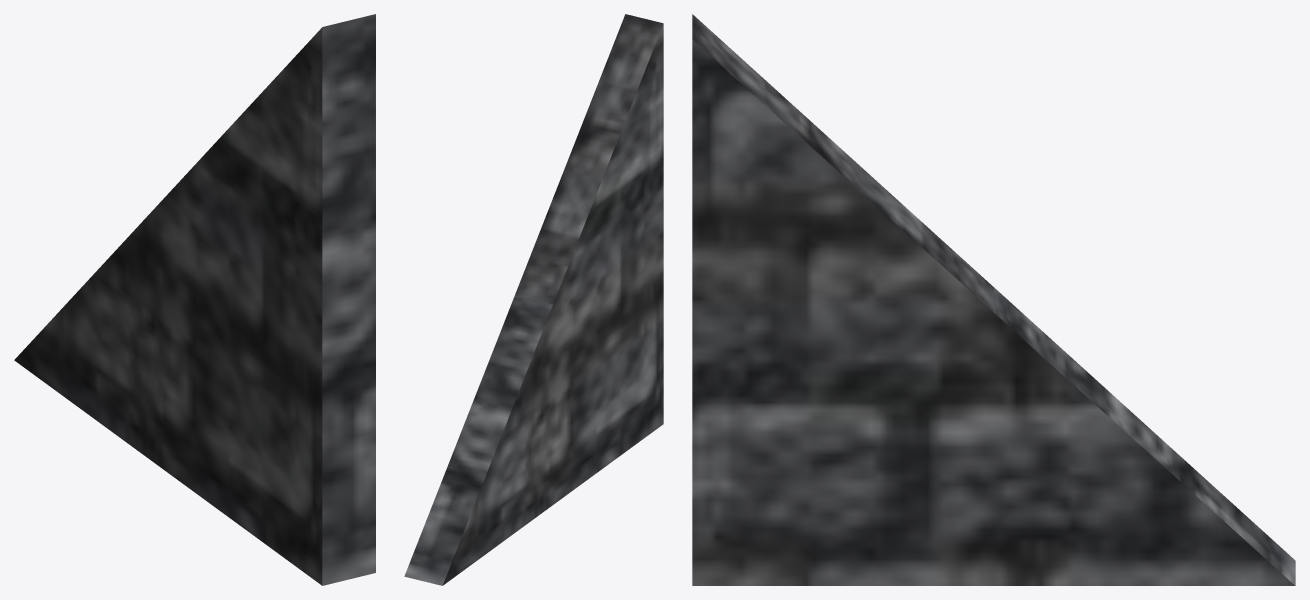
The model's file is kit_Wall_stone_1x1_triangle.glb.
3 views of the same model, side by side, from view 1: azimuth 30°, elevation 25°; view 2: azimuth 150°, elevation 25°; view 3: azimuth 270°, elevation 25° (orthographic). The views are drawn at different scales.
Parts seen in each view (by area): view 1: wall; view 2: wall; view 3: wall.
Part boxes in pixels (x1,y1,x2,y2): wall: [14, 14, 375, 585]; wall: [404, 14, 663, 585]; wall: [692, 14, 1295, 585].
Bounding box in the file's own units: 0.1 × 1 × 1.
1 material, 1 textured.
